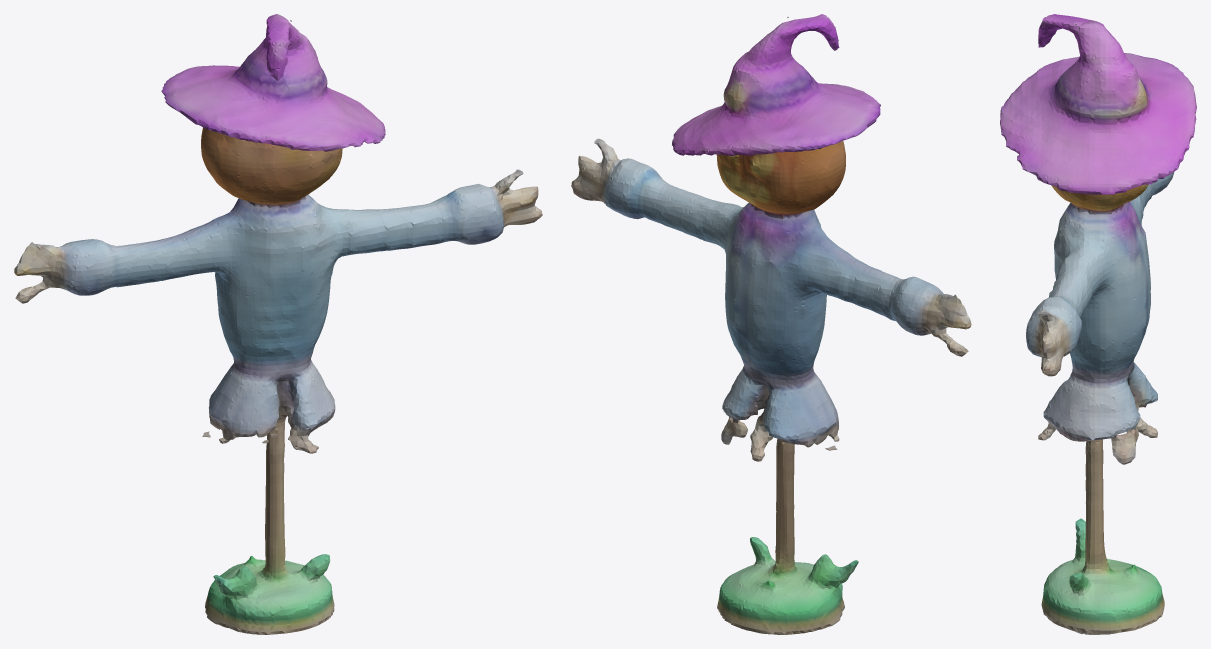
Rendered from scarecrow1.glb.
3 views of the same model, side by side, from view 1: azimuth 30°, elevation 25°; view 2: azimuth 150°, elevation 25°; view 3: azimuth 270°, elevation 25° (orthographic). The views are drawn at different scales.
Parts seen in each view (by area): view 1: world; view 2: world; view 3: world.
Boxes of the visible parts, x1,y1,x2,y2 form: world: (14,14,542,634); world: (571,14,971,634); world: (1000,14,1196,634).
Size of the model in its own units: 1.63 by 2 by 0.6055.
